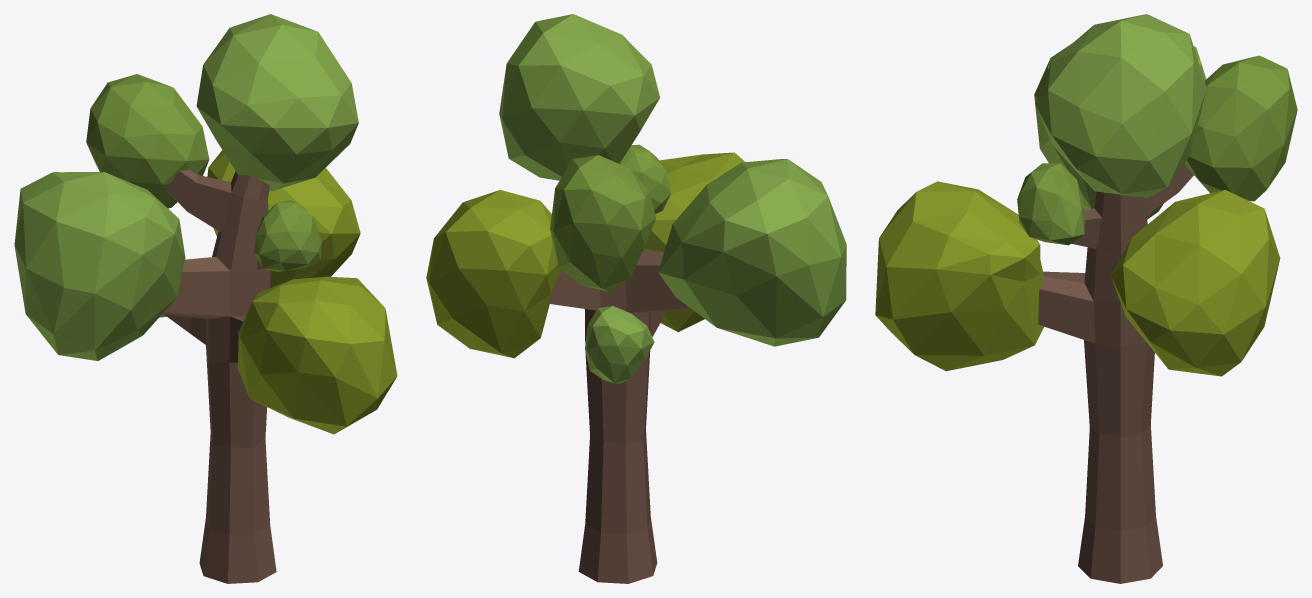
File: oak.glb
3 views of the same model, side by side, from view 1: azimuth 30°, elevation 25°; view 2: azimuth 150°, elevation 25°; view 3: azimuth 270°, elevation 25° (orthographic). The views are drawn at different scales.
Parts seen in each view (by area): view 1: Cylinder.001; view 2: Cylinder.001; view 3: Cylinder.001.
Part boxes in pixels (bbox=[...]): Cylinder.001: bbox=[14, 14, 397, 583]; Cylinder.001: bbox=[426, 14, 846, 583]; Cylinder.001: bbox=[875, 14, 1297, 583].
Bounding box in the file's own units: 2.85 × 4.04 × 2.72.
